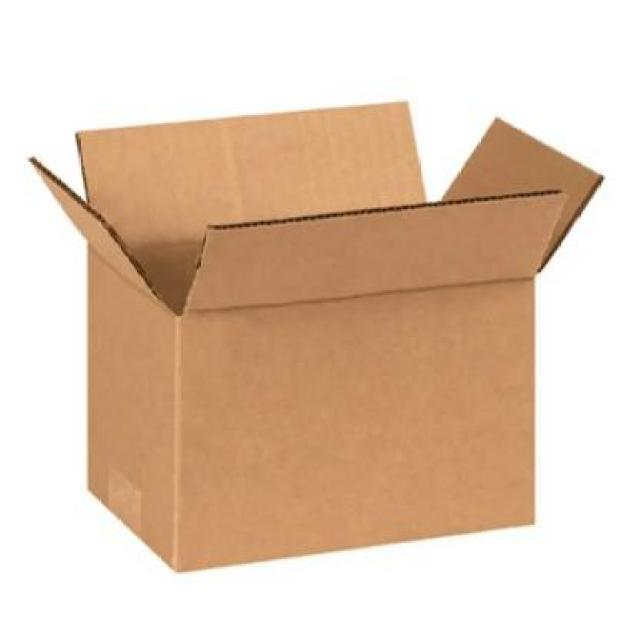box: (17, 93, 617, 581)
